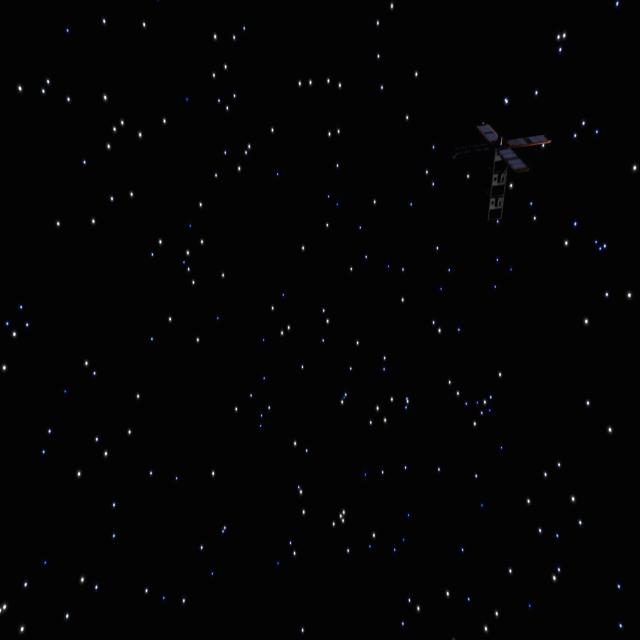medium_debris: (454, 115, 554, 225)
